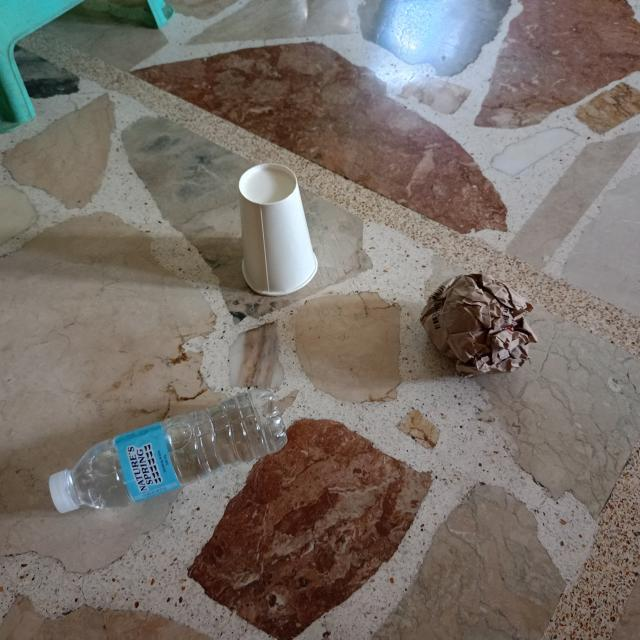recyclable waste: (44, 381, 294, 522), (414, 264, 546, 388), (232, 153, 322, 300)
